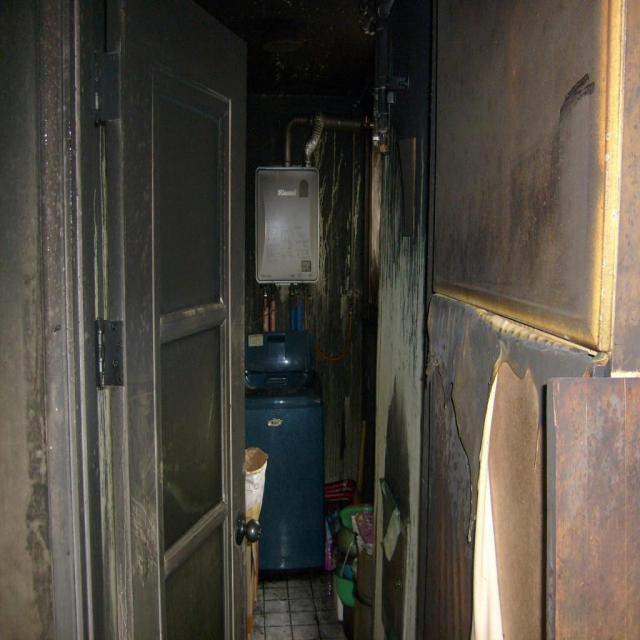Boiler: (238, 136, 370, 340)
